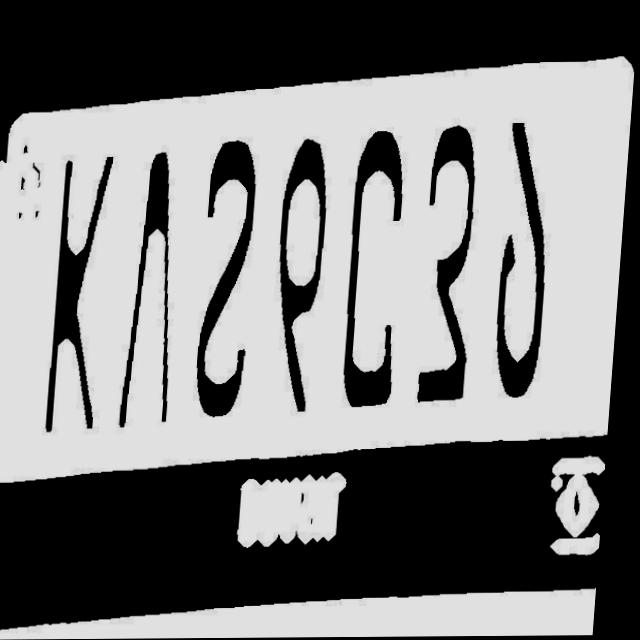3: (414, 97, 502, 423)
6: (260, 111, 351, 427)
9: (485, 102, 577, 425)
c: (339, 106, 425, 427)
k: (31, 130, 129, 447)
s: (183, 119, 276, 431)
v: (118, 117, 199, 442)
